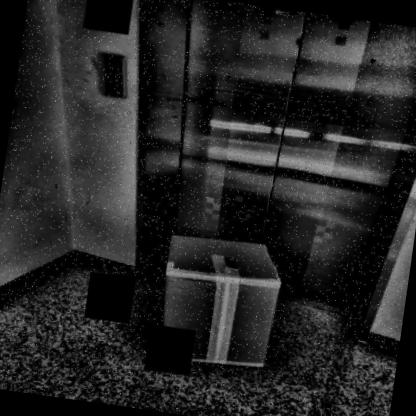box: (146, 224, 292, 382)
